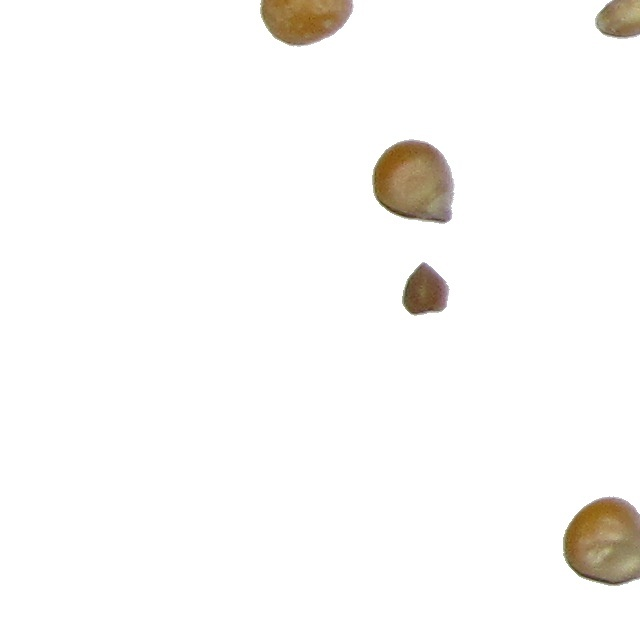buckwheat: (401, 261, 451, 317)
mais: (371, 138, 456, 225), (562, 495, 640, 587)
